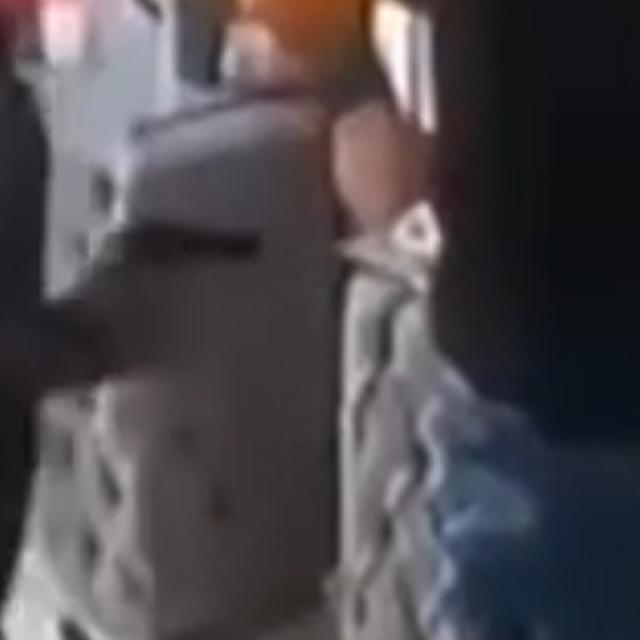FPistol: (104, 206, 270, 303)
